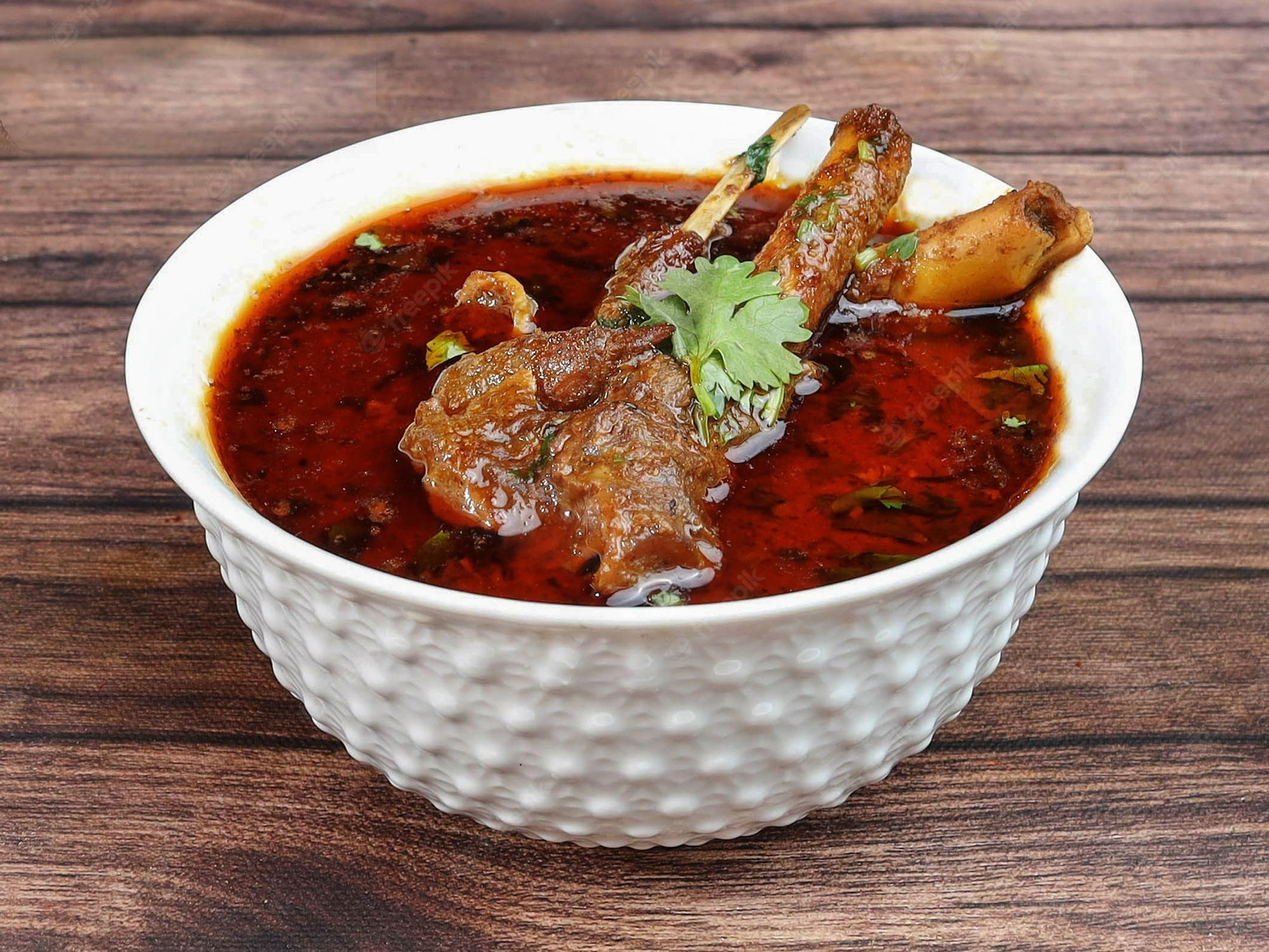MuttonCurry: (204, 105, 1064, 603)
